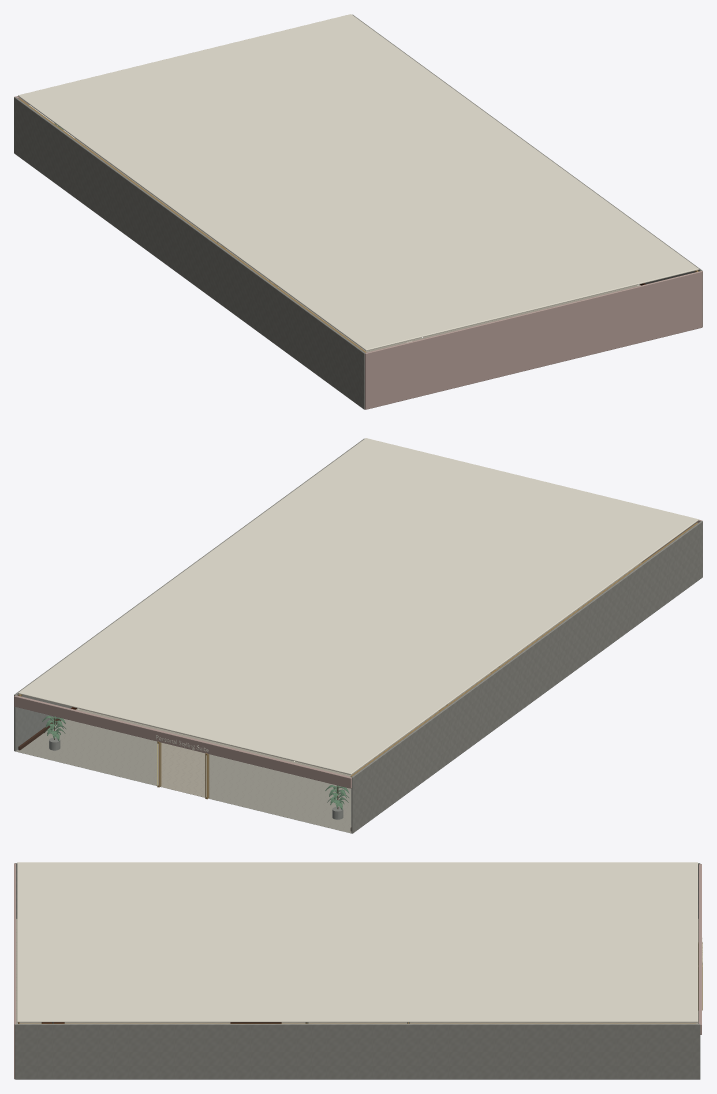
File: personal-styling.glb
The picture shows the model from 3 angles, top to bottom: view 1: azimuth 30°, elevation 25°; view 2: azimuth 150°, elevation 25°; view 3: azimuth 270°, elevation 25°; orthographic projection. The views are drawn at different scales.
Visible parts, largest first — view 1: Batched AUR-L4-PERSONAL-STYLING::Warm porcelain, Batched AUR-L4-PERSONAL-STYLING::Travertine, Batched AUR-L4-PERSONAL-STYLING::Tenant personal-styling, Batched AUR-L4-PERSONAL-STYLING::Cream marble, Batched AUR-L4-PERSONAL-STYLING::Bronze; view 2: Batched AUR-L4-PERSONAL-STYLING::Warm porcelain, Batched AUR-L4-PERSONAL-STYLING::Travertine, Batched AUR-L4-PERSONAL-STYLING::Cream marble, Batched AUR-L4-PERSONAL-STYLING::Tenant glass, Batched AUR-L4-PERSONAL-STYLING::Tenant personal-styling, Batched AUR-L4-PERSONAL-STYLING::Bronze, Batched AUR-L4-PERSONAL-STYLING::Foliage; view 3: Batched AUR-L4-PERSONAL-STYLING::Warm porcelain, Batched AUR-L4-PERSONAL-STYLING::Travertine, Batched AUR-L4-PERSONAL-STYLING::Cream marble, Batched AUR-L4-PERSONAL-STYLING::Tenant personal-styling, Batched AUR-L4-PERSONAL-STYLING::Bronze.
Boxes of the visible parts, x1,y1,x2,y2 form: Batched AUR-L4-PERSONAL-STYLING::Warm porcelain: [18, 14, 698, 350]; Batched AUR-L4-PERSONAL-STYLING::Travertine: [14, 14, 702, 409]; Batched AUR-L4-PERSONAL-STYLING::Tenant personal-styling: [14, 96, 702, 409]; Batched AUR-L4-PERSONAL-STYLING::Cream marble: [75, 138, 640, 352]; Batched AUR-L4-PERSONAL-STYLING::Bronze: [19, 98, 698, 352]; Batched AUR-L4-PERSONAL-STYLING::Warm porcelain: [18, 438, 698, 774]; Batched AUR-L4-PERSONAL-STYLING::Travertine: [14, 438, 702, 833]; Batched AUR-L4-PERSONAL-STYLING::Cream marble: [15, 562, 641, 833]; Batched AUR-L4-PERSONAL-STYLING::Tenant glass: [15, 707, 351, 832]; Batched AUR-L4-PERSONAL-STYLING::Tenant personal-styling: [14, 519, 702, 788]; Batched AUR-L4-PERSONAL-STYLING::Bronze: [18, 522, 697, 799]; Batched AUR-L4-PERSONAL-STYLING::Foliage: [42, 715, 349, 809]; Batched AUR-L4-PERSONAL-STYLING::Warm porcelain: [17, 862, 702, 1022]; Batched AUR-L4-PERSONAL-STYLING::Travertine: [15, 863, 700, 1079]; Batched AUR-L4-PERSONAL-STYLING::Cream marble: [16, 918, 698, 1023]; Batched AUR-L4-PERSONAL-STYLING::Tenant personal-styling: [14, 863, 701, 1079]; Batched AUR-L4-PERSONAL-STYLING::Bronze: [18, 942, 702, 1023].
Bounding box in the file's own units: 30.16 × 4.97 × 54.29.
Materials: 12 (4 with a texture image).
